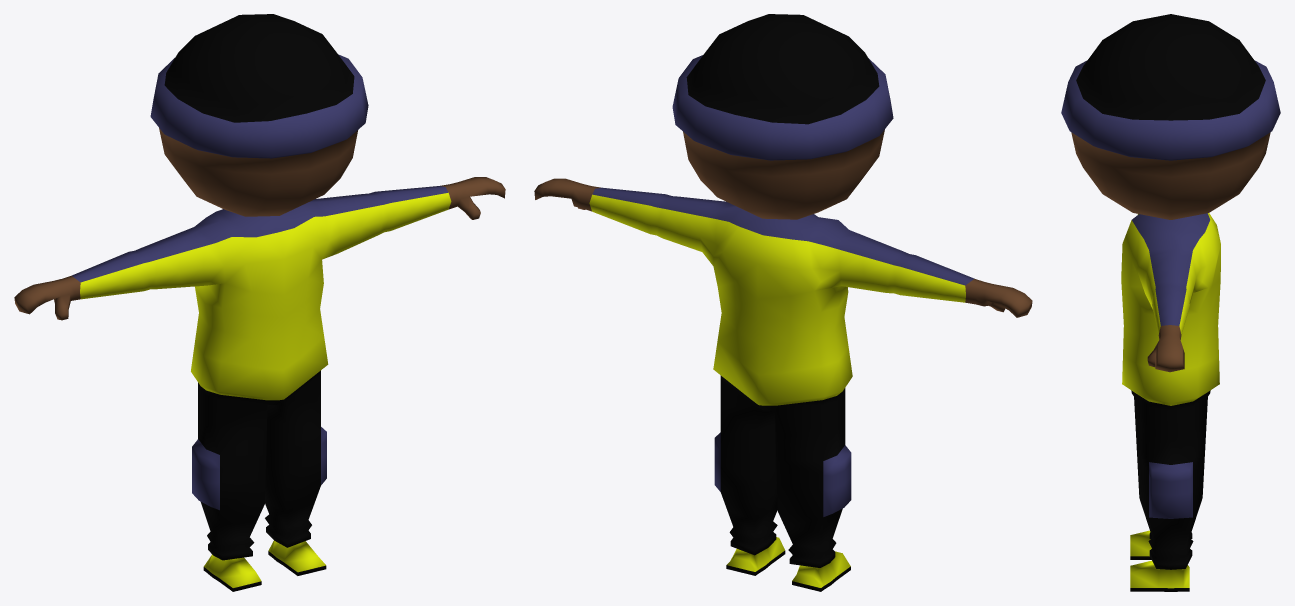
The model's file is Character.fbx.
3 renders of one model, left to right at view 1: azimuth 30°, elevation 25°; view 2: azimuth 150°, elevation 25°; view 3: azimuth 270°, elevation 25°, orthographic.
Visible parts, largest first — view 1: Charecter; view 2: Charecter; view 3: Charecter.
Part boxes in pixels (<box>): Charecter: <box>14,14,505,591</box>; Charecter: <box>534,14,1032,591</box>; Charecter: <box>1061,14,1280,591</box>.
Size of the model in its own units: 465 by 500 by 182.
